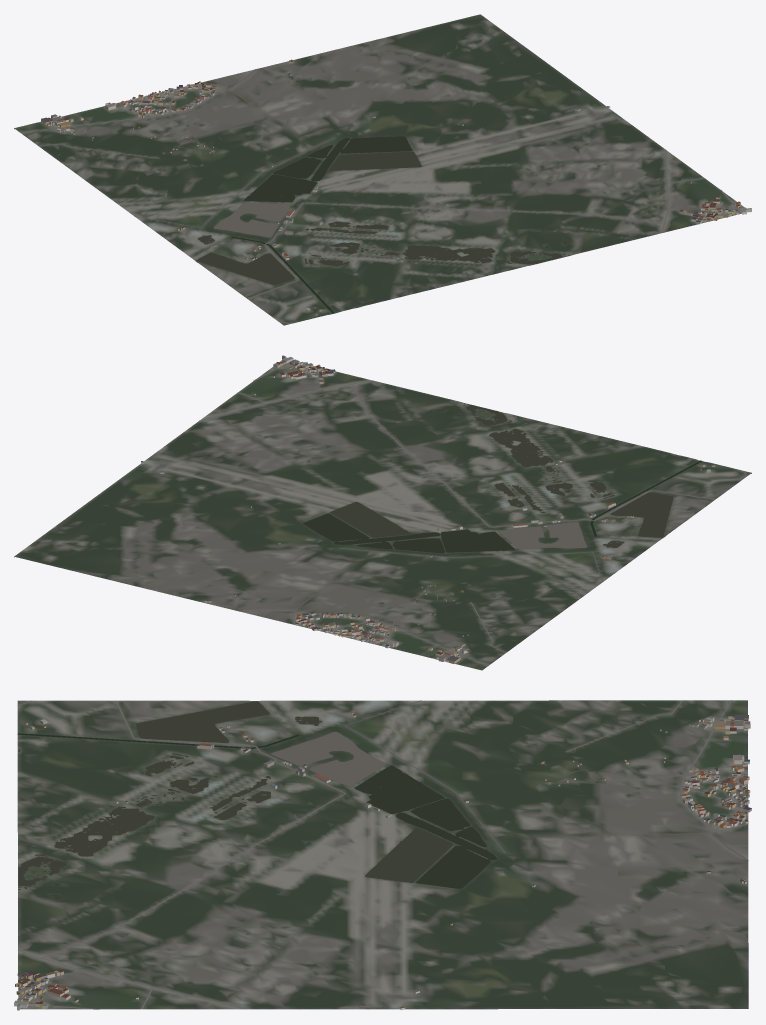
3 views of the same model, one above another, from view 1: azimuth 30°, elevation 25°; view 2: azimuth 150°, elevation 25°; view 3: azimuth 270°, elevation 25° (orthographic). The views are drawn at different scales.
Parts seen in each view (by area): view 1: ground, water, buildings, roads; view 2: ground, water, buildings, roads; view 3: ground, water, buildings, roads.
Part boxes in pixels (x1,y1,x2,y2): ground: [14, 14, 744, 325]; water: [196, 136, 570, 313]; buildings: [41, 59, 751, 315]; roads: [20, 69, 740, 323]; ground: [14, 360, 751, 670]; water: [303, 403, 702, 553]; buildings: [141, 355, 715, 664]; roads: [154, 362, 746, 666]; ground: [17, 700, 748, 1009]; water: [17, 701, 496, 899]; buildings: [14, 710, 751, 1010]; roads: [17, 700, 748, 1009].
Size of the model in its own units: 1408 by 15.26 by 1416.
